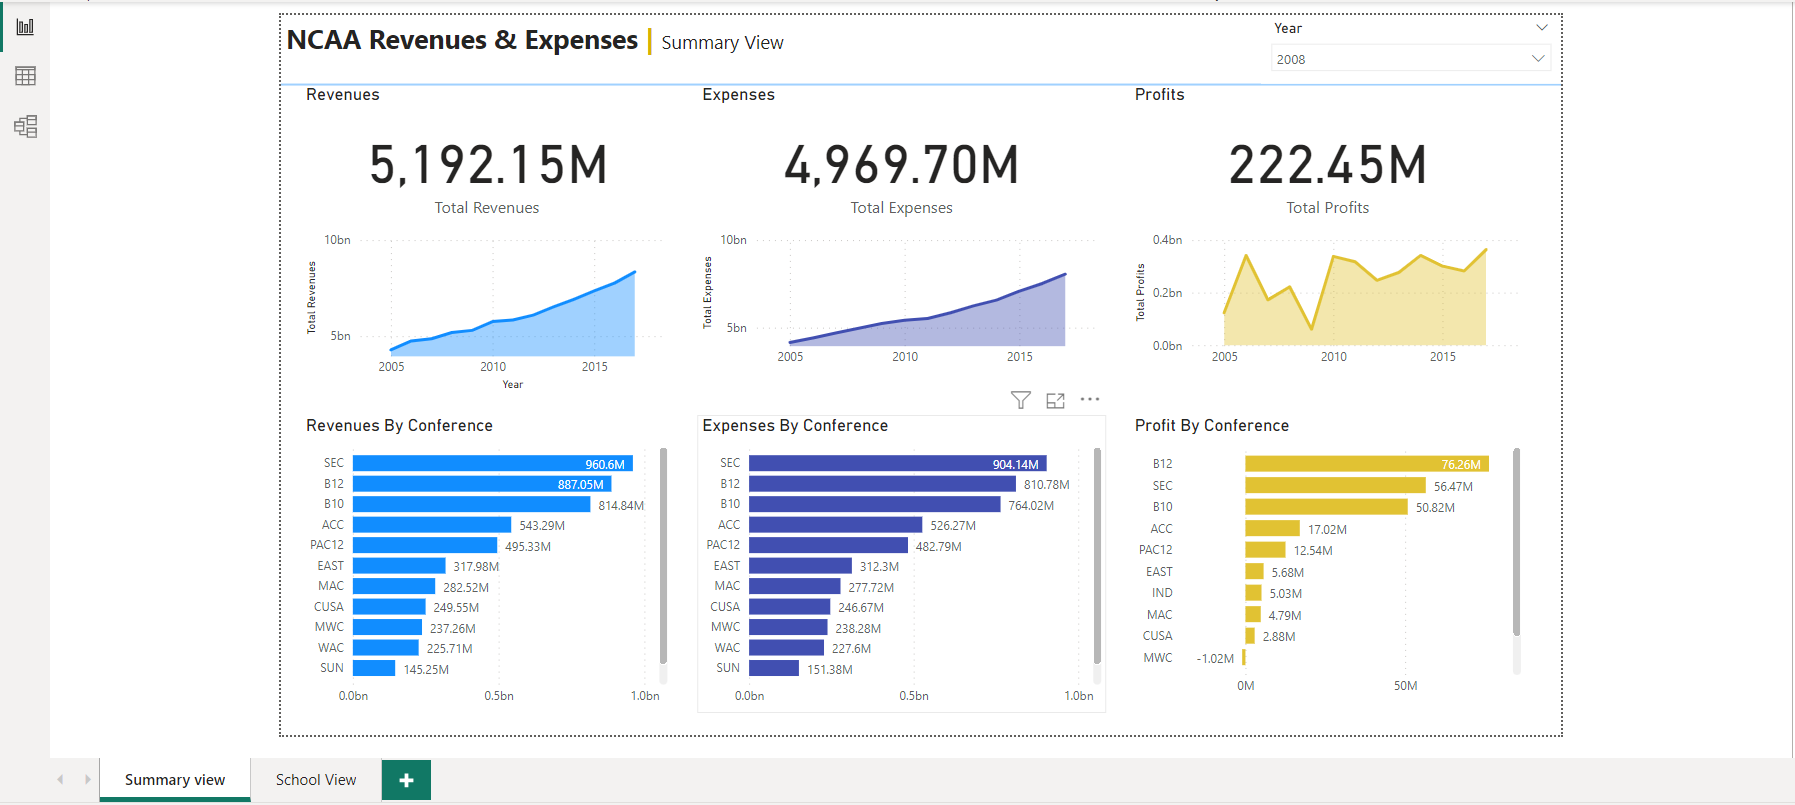

The dashboard page shown, as its layout file describes it:
{"tool":"powerbi","page":{"name":"Summary view","canvas":[1280,720],"ordinal":0},"visuals":[{"type":"textbox","box":[0,0,630,68.8],"z":0},{"type":"card","title":"Revenues","fields":{"Values":["Sum(finances_fact.Total Revenues)"]},"box":[20,68.8,372.5,150],"z":1000},{"type":"card","title":"Expenses","fields":{"Values":["Sum(finances_fact.Total Expenses)"]},"box":[416.2,68.8,408.8,150],"z":2000},{"type":"card","title":"Profits","fields":{"Values":["Sum(finances_fact.Profits)"]},"box":[848.8,68.8,396.2,150],"z":3000},{"type":"areaChart","title":"Revemues","fields":{"Category":["finances_fact.Year"],"Y":["Sum(finances_fact.Total Revenues)"]},"box":[20,211.2,372.5,168.8],"z":4000},{"type":"areaChart","title":"Expenses","fields":{"Category":["finances_fact.Year"],"Y":["Sum(finances_fact.Total Expenses)"]},"box":[416.2,211.2,408.8,148.8],"z":5000},{"type":"areaChart","title":"Profit","fields":{"Category":["finances_fact.Year"],"Y":["Sum(finances_fact.Profits)"]},"box":[848.8,211.2,396.2,148.8],"z":6000},{"type":"barChart","title":"Revenues By Conference","fields":{"Category":["conference_dim.Conference Abb"],"Y":["Sum(finances_fact.Total Revenues)"]},"box":[20,400,371.2,298.8],"z":7000},{"type":"barChart","title":"Expenses By Conference","fields":{"Category":["conference_dim.Conference Abb"],"Y":["Sum(finances_fact.Total Expenses)"]},"box":[416.2,400,408.8,298.8],"z":8000},{"type":"barChart","title":"Profit By Conference","fields":{"Category":["conference_dim.Conference Abb"],"Y":["Sum(finances_fact.Profits)"]},"box":[848.8,400,396.2,288.8],"z":9000},{"type":"shape","box":[0,28.8,1280,81.2],"z":10000},{"type":"slicer","fields":{"Values":["finances_fact.Year"]},"box":[980,0,300,68.8],"z":11000}]}

Visuals, with their boxes on the page's 1280x720 design canvas (x1, y1, x2, y2). These are canvas units, not pixel positions in the 1795x805 screenshot, which may show the page scaled, cropped or inside an application window:
textbox: box(0, 0, 630, 69)
"Revenues" card: box(20, 69, 392, 219)
"Expenses" card: box(416, 69, 825, 219)
"Profits" card: box(849, 69, 1245, 219)
"Revemues" areaChart: box(20, 211, 392, 380)
"Expenses" areaChart: box(416, 211, 825, 360)
"Profit" areaChart: box(849, 211, 1245, 360)
"Revenues By Conference" barChart: box(20, 400, 391, 699)
"Expenses By Conference" barChart: box(416, 400, 825, 699)
"Profit By Conference" barChart: box(849, 400, 1245, 689)
shape: box(0, 29, 1280, 110)
slicer - finances_fact.Year: box(980, 0, 1280, 69)
